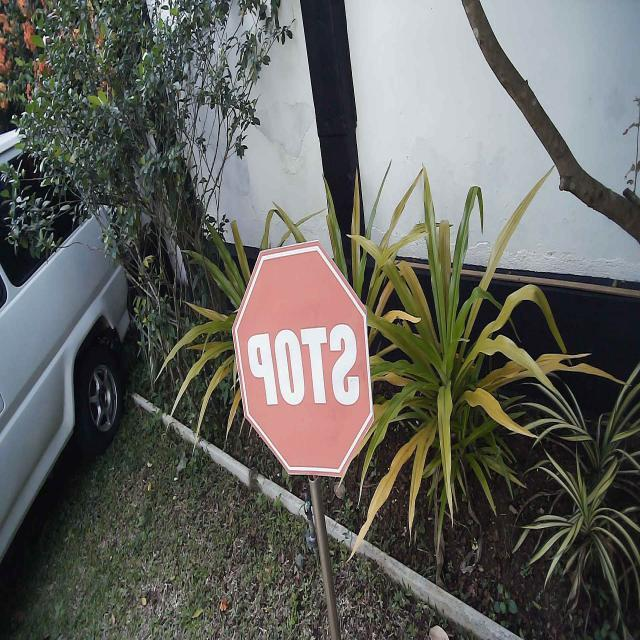stop: (230, 235, 376, 480)
